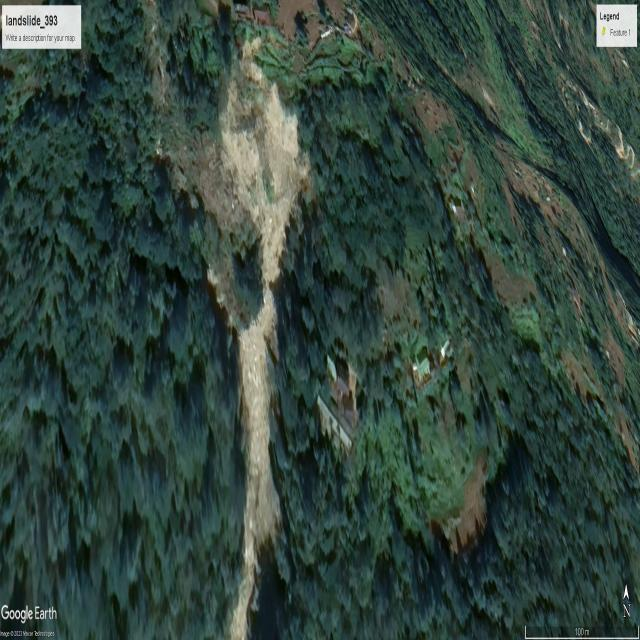Landslide: (212, 46, 300, 629)
